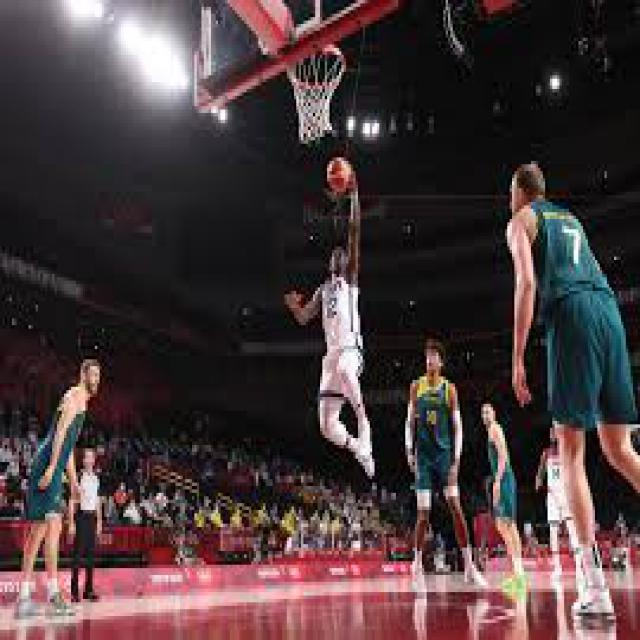basketball: (328, 158, 350, 192)
rim: (286, 44, 346, 92)
